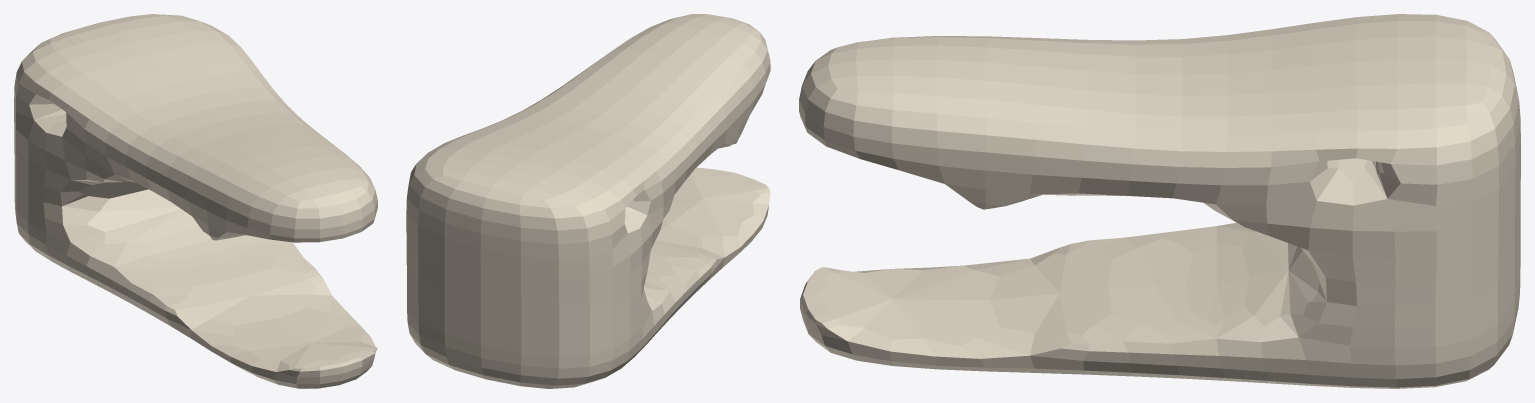
File: croc.glb
3 renders of one model, left to right at view 1: azimuth 30°, elevation 25°; view 2: azimuth 150°, elevation 25°; view 3: azimuth 270°, elevation 25°, orthographic. The views are drawn at different scales.
Parts seen in each view (by area): view 1: Cube; view 2: Cube; view 3: Cube.
Part boxes in pixels (x1,y1,x2,y2): Cube: (14, 14, 377, 388); Cube: (406, 14, 770, 388); Cube: (799, 14, 1520, 388).
Size of the model in its own units: 8.55 by 7.87 by 18.04.
